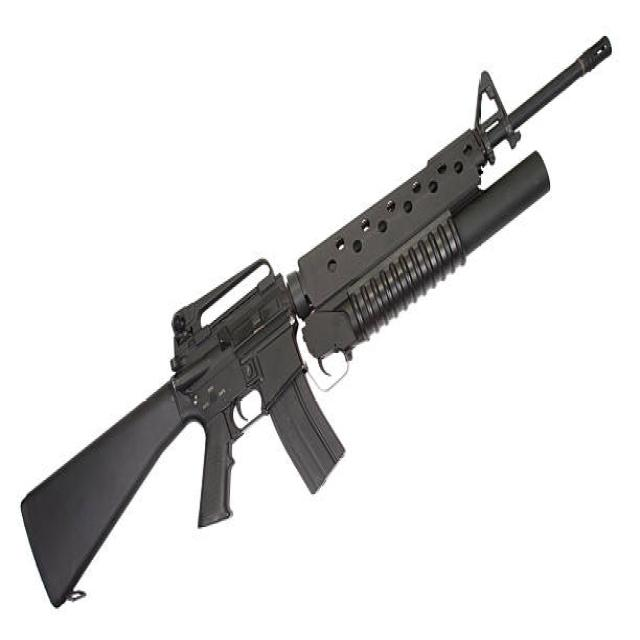rifle: (17, 31, 617, 626)
